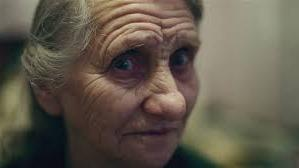Wrinkles: (105, 20, 193, 41), (100, 11, 193, 30), (103, 28, 132, 65), (78, 76, 104, 105), (165, 28, 193, 48), (124, 28, 162, 38), (83, 94, 99, 117), (83, 89, 91, 106)
